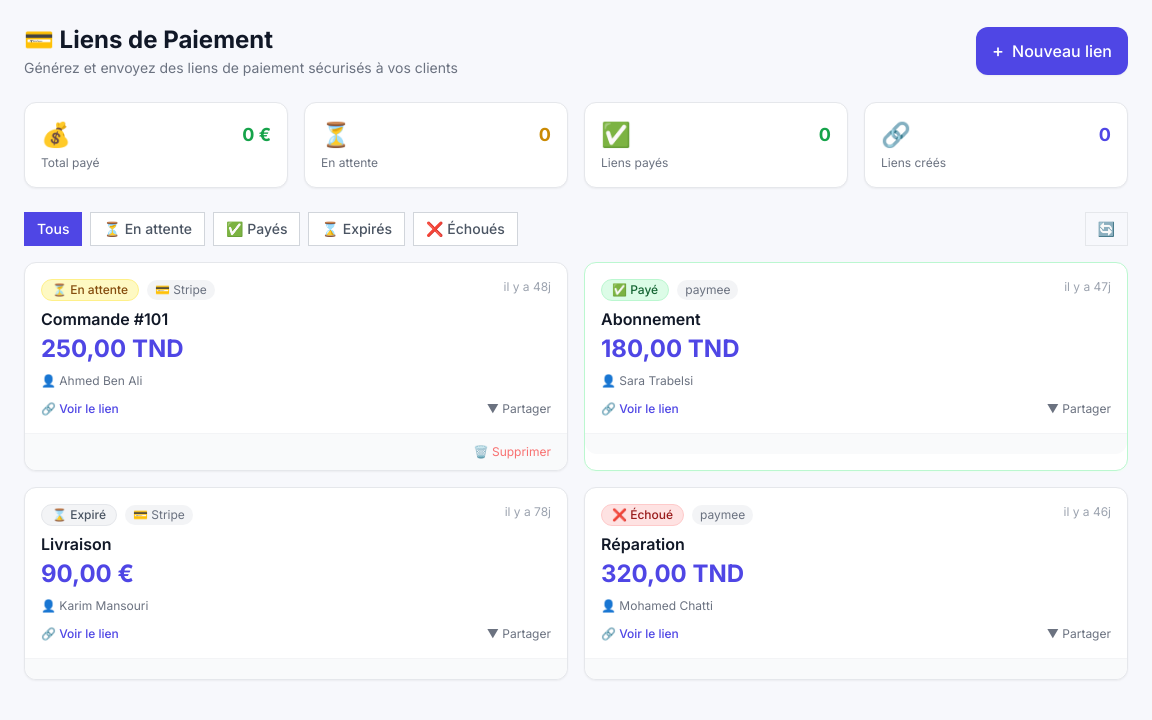
Test: PaymentLinks - Création › ouvre le formulaire de création au clic
Click the button "+ Nouveau lien": point(1052, 51) left=976, top=27, right=1128, bottom=75
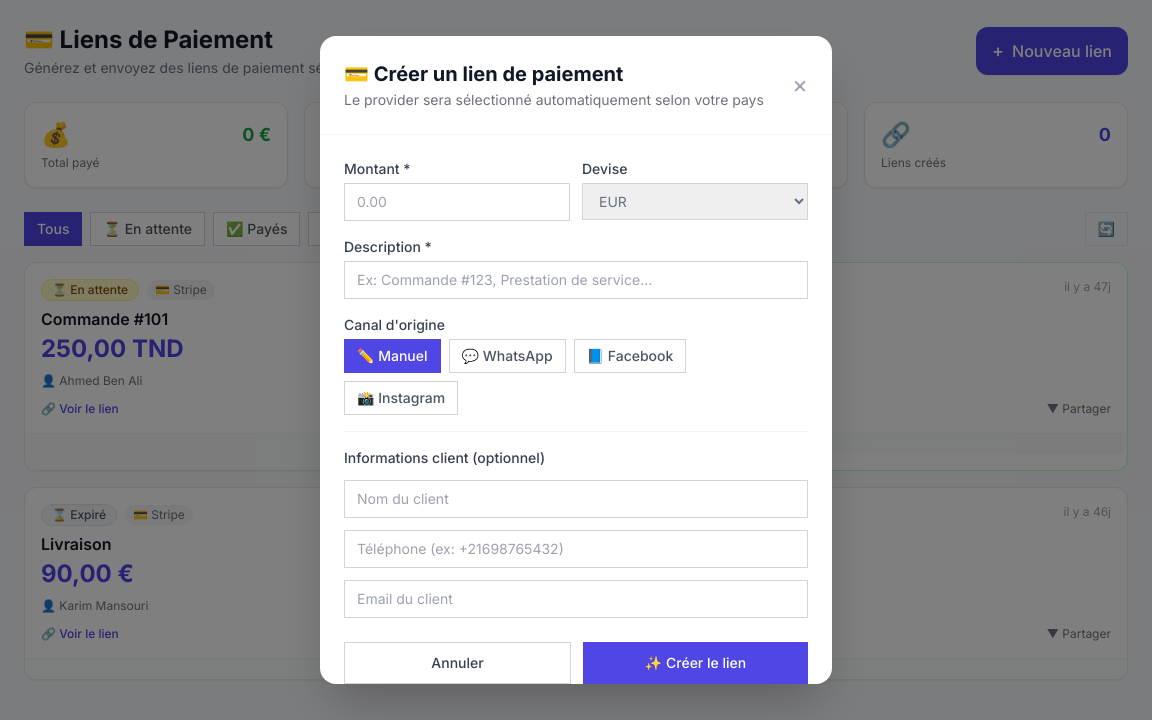
Check: the number field with placeholder "0.00" is shown, box left=344, top=183, right=570, bottom=221
